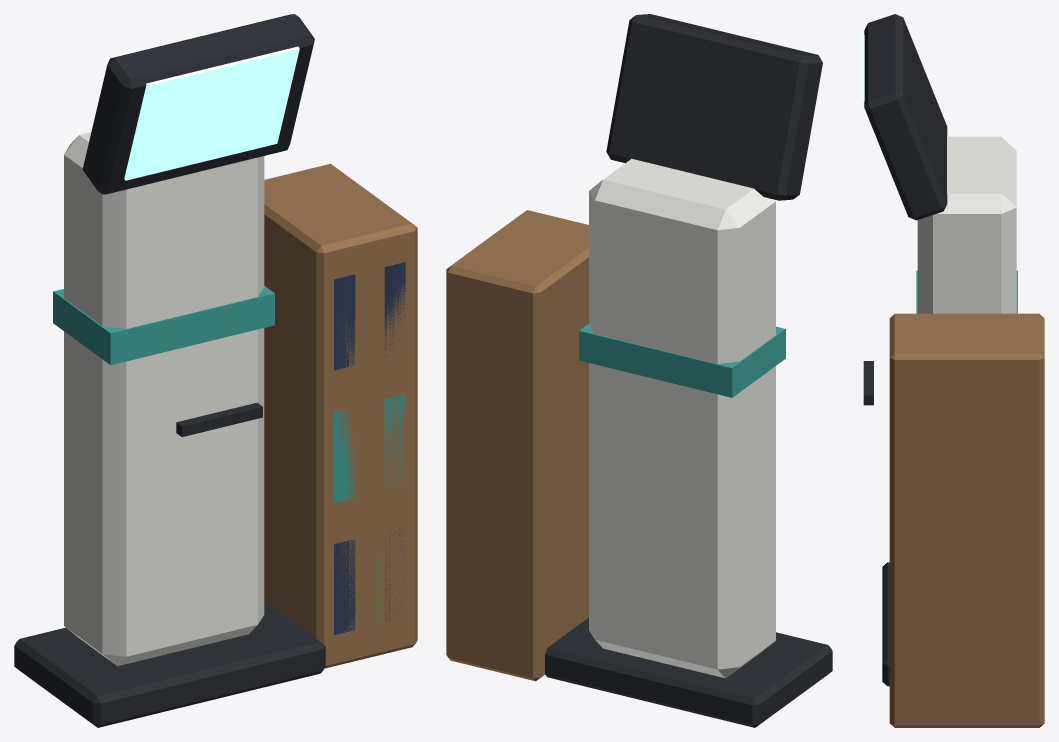
Rendered from selfservice_p0_4.glb.
3 renders of one model, left to right at view 1: azimuth 30°, elevation 25°; view 2: azimuth 150°, elevation 25°; view 3: azimuth 270°, elevation 25°, orthographic. The views are drawn at different scales.
Visible parts, largest first — view 1: selfservice_p0_4_mesh; view 2: selfservice_p0_4_mesh; view 3: selfservice_p0_4_mesh.
Boxes of the visible parts, <box> form: selfservice_p0_4_mesh: <box>14,14,417,727</box>; selfservice_p0_4_mesh: <box>446,14,832,727</box>; selfservice_p0_4_mesh: <box>861,14,1044,727</box>.
Size of the model in its own units: 0.65 by 1.25 by 0.3547.
